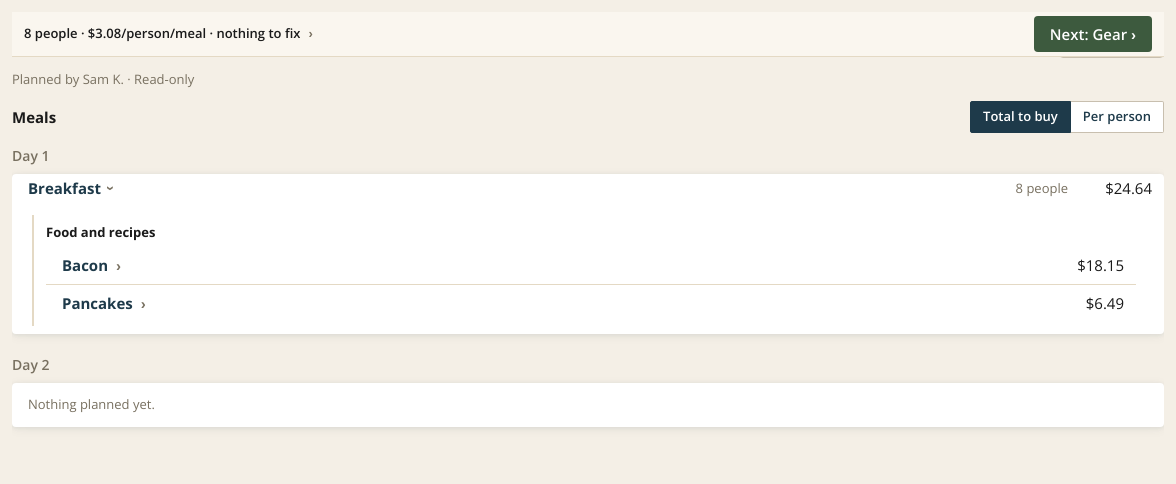
Test: Plan tab — brands › AReader_SeesTheBrand_WithNothingToPress
What coordinates should you click on to do the following:
click the button "Bacon ›"
I would click on:
 (92, 265)
Its box is [62, 254, 121, 276].
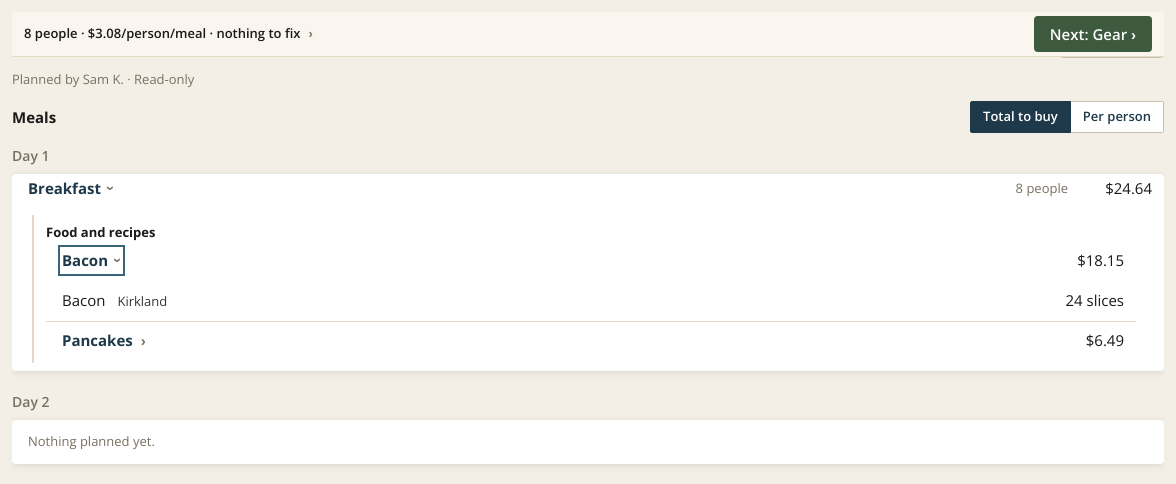
Now the text "Kirkland" is shown, box [117, 292, 167, 311]
